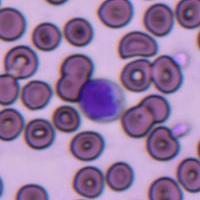L: (77, 78, 123, 122)
